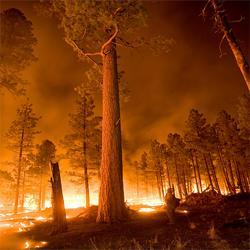fire: (126, 187, 166, 209), (62, 190, 99, 206), (22, 194, 53, 211)
